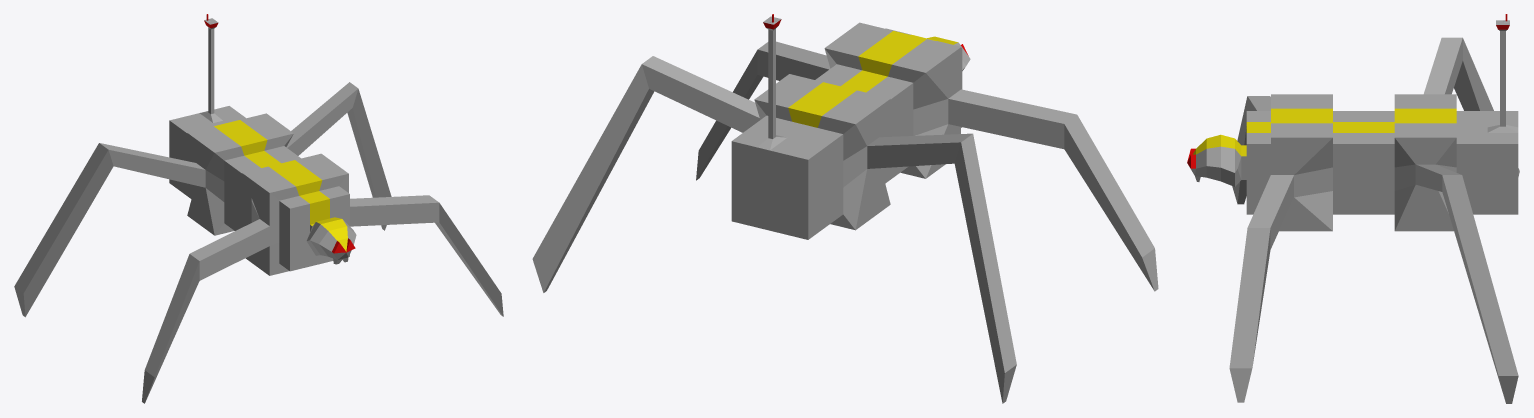
The model's file is mecha_araignee.fbx.
The picture shows the model from 3 angles, left to right: view 1: azimuth 30°, elevation 25°; view 2: azimuth 150°, elevation 25°; view 3: azimuth 270°, elevation 25°; orthographic projection. The views are drawn at different scales.
Parts seen in each view (by area): view 1: pSphere2; view 2: pSphere2; view 3: pSphere2.
Boxes of the visible parts, left/top/right/bottom form: pSphere2: left=14, top=14, right=503, bottom=403; pSphere2: left=532, top=14, right=1158, bottom=403; pSphere2: left=1187, top=14, right=1519, bottom=403.
Size of the model in its own units: 6.17 by 4.14 by 4.27.
